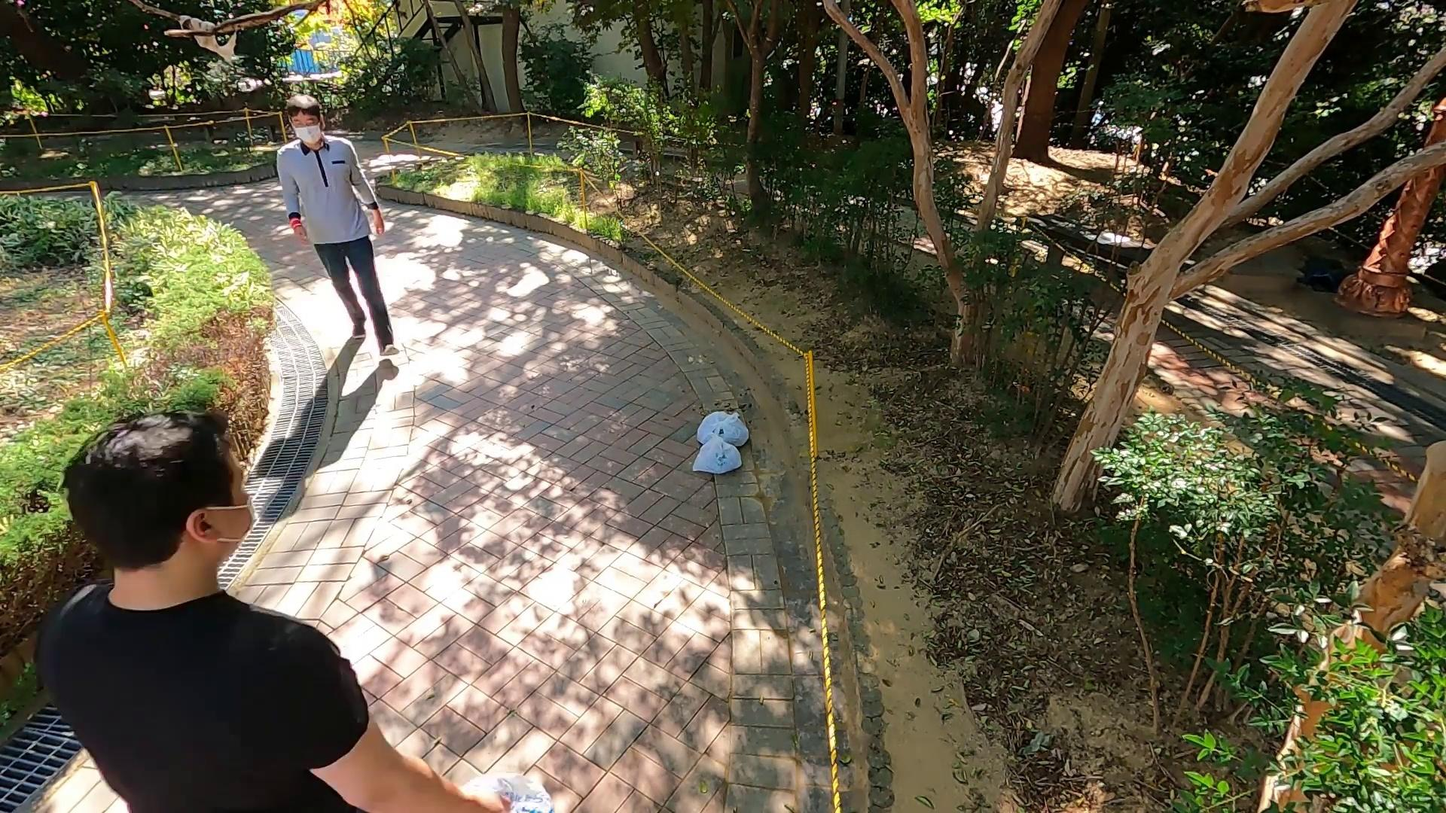person: (33, 396, 546, 813), (275, 87, 413, 362)
trash: (448, 765, 579, 813), (694, 408, 754, 450), (692, 436, 744, 482)
